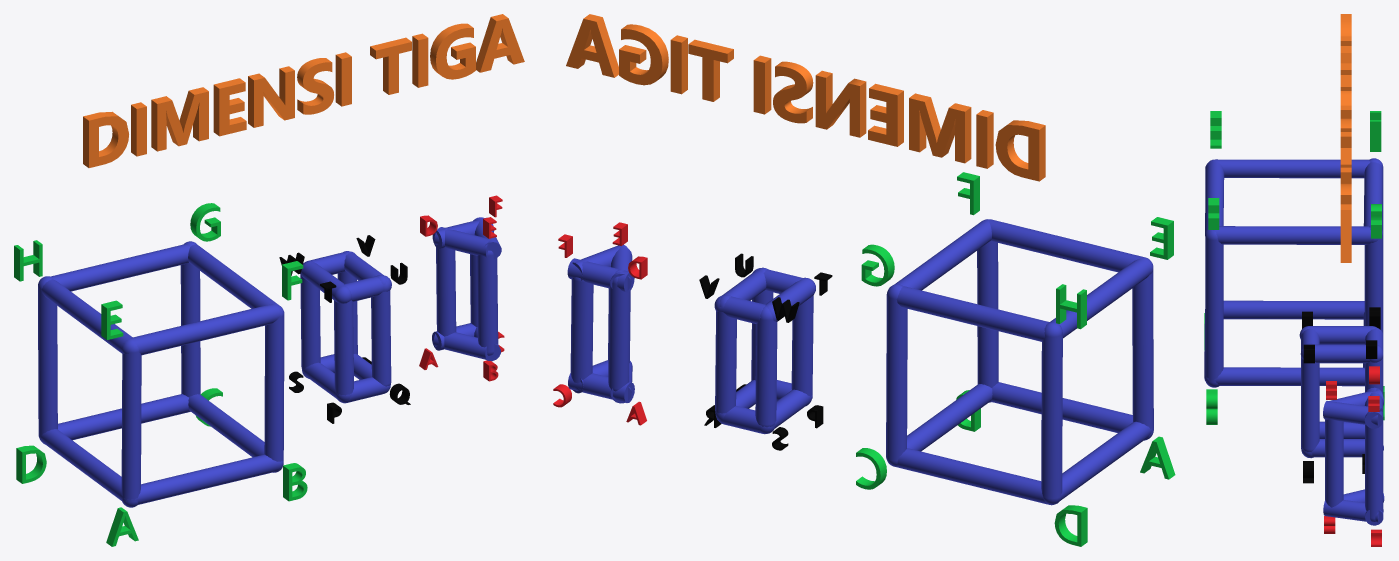
Rendered from kubus.glb.
3 renders of one model, left to right at view 1: azimuth 30°, elevation 25°; view 2: azimuth 150°, elevation 25°; view 3: azimuth 270°, elevation 25°, orthographic. The views are drawn at different scales.
Parts seen in each view (by area): view 1: node_id751_59, Object_27, Object_17, Object_9, Object_25, Object_5, Object_21, Object_7, Object_13, Object_69, Object_11, Object_43 (+19 smaller); view 2: node_id751_59, Object_5, Object_7, Object_21, Object_13, Object_27, Object_17, Object_25, Object_9, Object_33, Object_67, Object_11 (+18 smaller); view 3: node_id751_59, Object_25, Object_23, Object_19, Object_11, Object_15, Object_67, Object_43, Object_69, Object_7, Object_31, Object_49 (+20 smaller).
Boxes of the visible parts, x1,y1,x2,y2 form: node_id751_59: [83, 14, 524, 167]; Object_27: [121, 344, 141, 507]; Object_17: [121, 304, 281, 355]; Object_9: [122, 454, 283, 504]; Object_25: [264, 305, 284, 472]; Object_5: [38, 276, 57, 441]; Object_21: [50, 244, 189, 291]; Object_7: [180, 241, 200, 397]; Object_13: [41, 394, 190, 444]; Object_69: [477, 250, 498, 355]; Object_11: [40, 429, 122, 500]; Object_43: [371, 275, 391, 386]; node_id751_59: [566, 14, 1045, 181]; Object_5: [1041, 322, 1062, 504]; Object_7: [886, 284, 907, 466]; Object_21: [896, 286, 1049, 341]; Object_13: [896, 448, 1060, 505]; Object_27: [1132, 270, 1153, 440]; Object_17: [985, 219, 1153, 273]; Object_25: [977, 241, 998, 402]; Object_9: [990, 382, 1153, 432]; Object_33: [755, 306, 777, 427]; Object_67: [570, 277, 593, 390]; Object_11: [1060, 421, 1152, 500]; node_id751_59: [1340, 14, 1351, 262]; Object_25: [1205, 230, 1223, 387]; Object_23: [1213, 226, 1374, 244]; Object_19: [1214, 159, 1370, 178]; Object_11: [1223, 300, 1364, 319]; Object_15: [1214, 367, 1364, 386]; Object_67: [1365, 419, 1383, 521]; Object_43: [1301, 343, 1319, 451]; Object_69: [1325, 419, 1343, 507]; Object_7: [1364, 225, 1383, 368]; Object_31: [1300, 344, 1369, 363]; Object_49: [1299, 326, 1376, 344].
Bounding box in the file's own units: 0.722 × 0.5119 × 0.2413.
28 materials, 28 textured.
